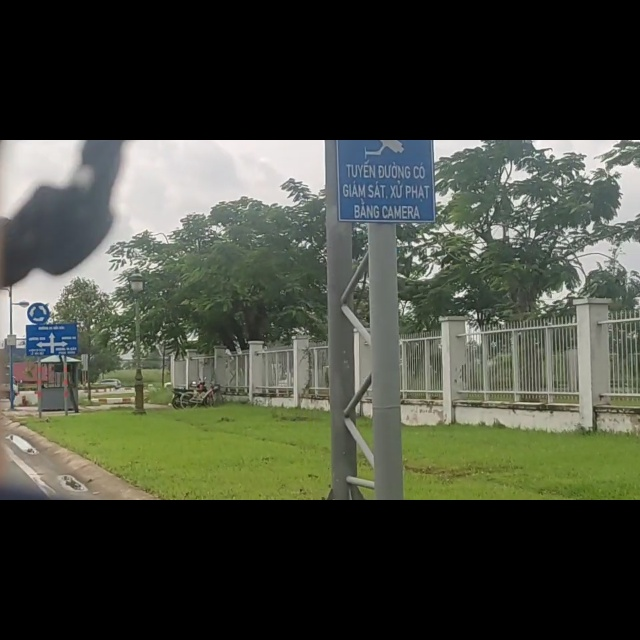bien_hieu_lenh: (27, 284, 51, 327)
